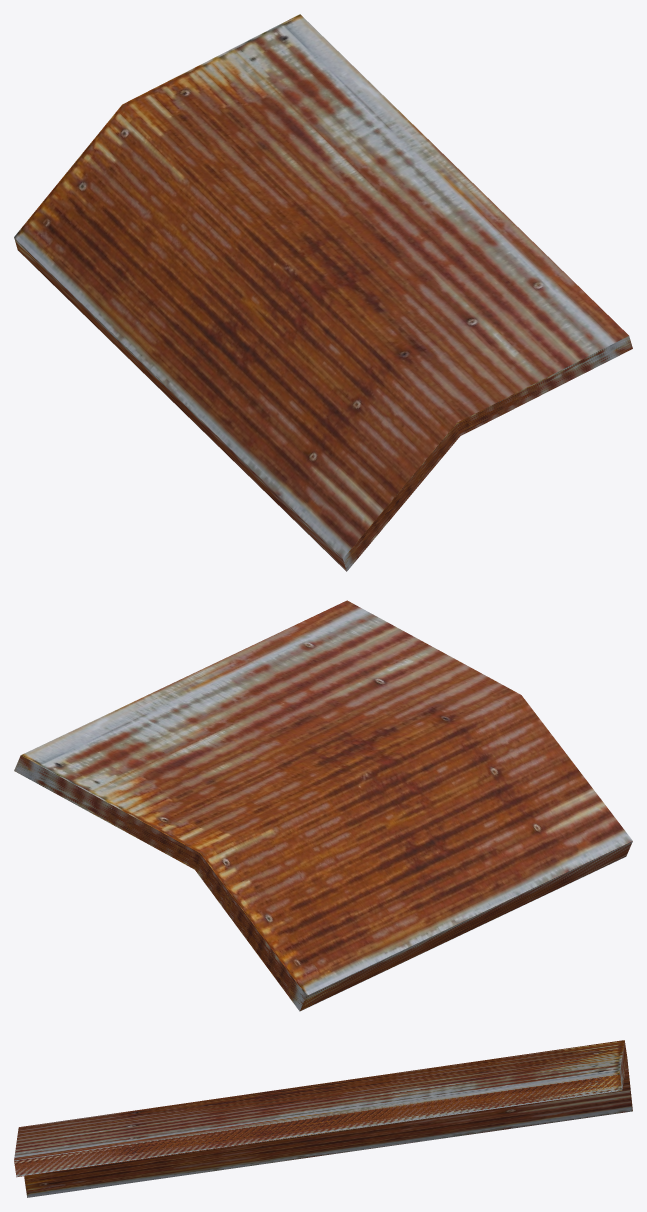
Rendered from house part 3.fbx.
The picture shows the model from 3 angles, top to bottom: view 1: azimuth 30°, elevation 25°; view 2: azimuth 150°, elevation 25°; view 3: azimuth 270°, elevation 25°; orthographic projection. The views are drawn at different scales.
Parts seen in each view (by area): view 1: pasted__pasted__pasted__pCube1.003; view 2: pasted__pasted__pasted__pCube1.003; view 3: pasted__pasted__pasted__pCube1.003.
Boxes of the visible parts, x1,y1,x2,y2 form: pasted__pasted__pasted__pCube1.003: (14,14,632,571); pasted__pasted__pasted__pCube1.003: (14,600,632,1011); pasted__pasted__pasted__pCube1.003: (14,1040,632,1197).
Bounding box in the file's own units: 0.5385 × 0.4605 × 1.05.
Materials: 1 (1 with a texture image).
